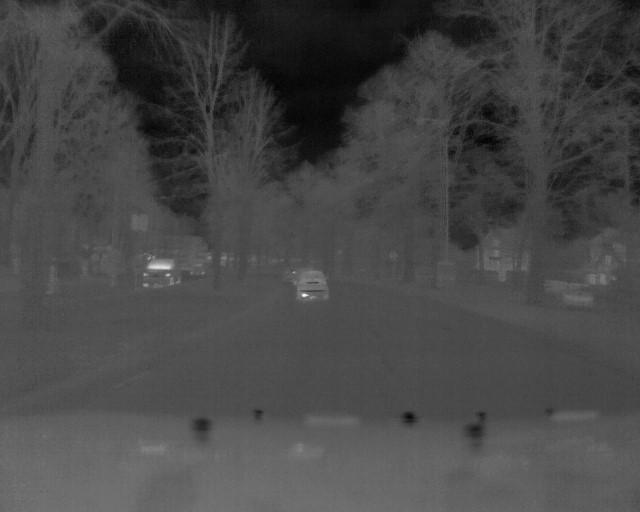car: (142, 256, 184, 289), (295, 270, 330, 303)
